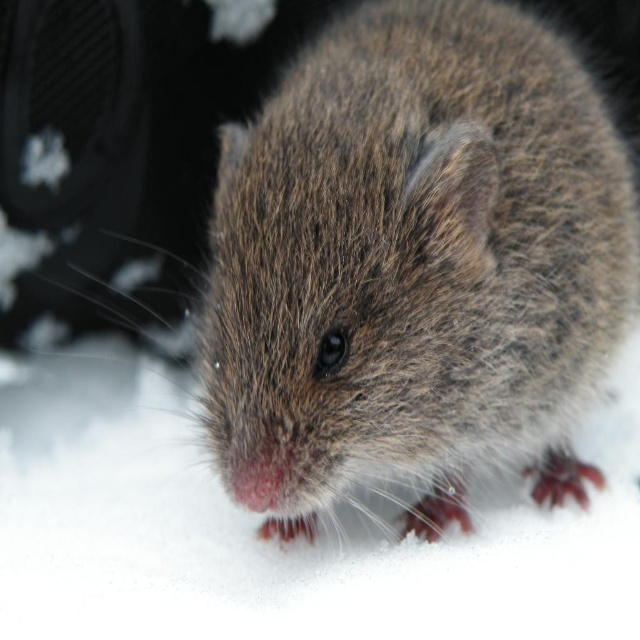Mouse: (146, 0, 630, 587)
